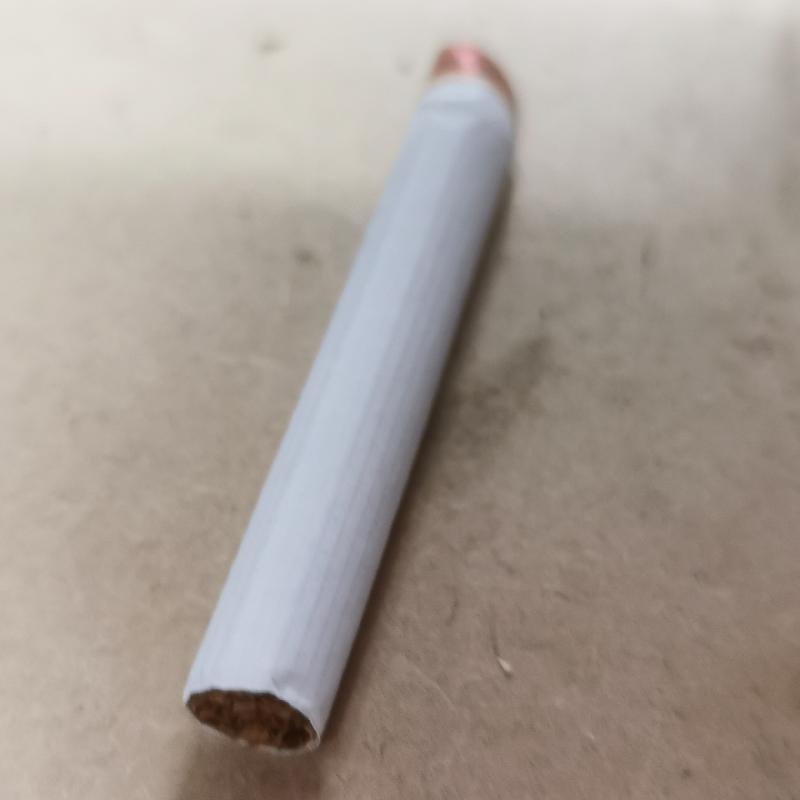cigarette: (181, 38, 523, 751)
